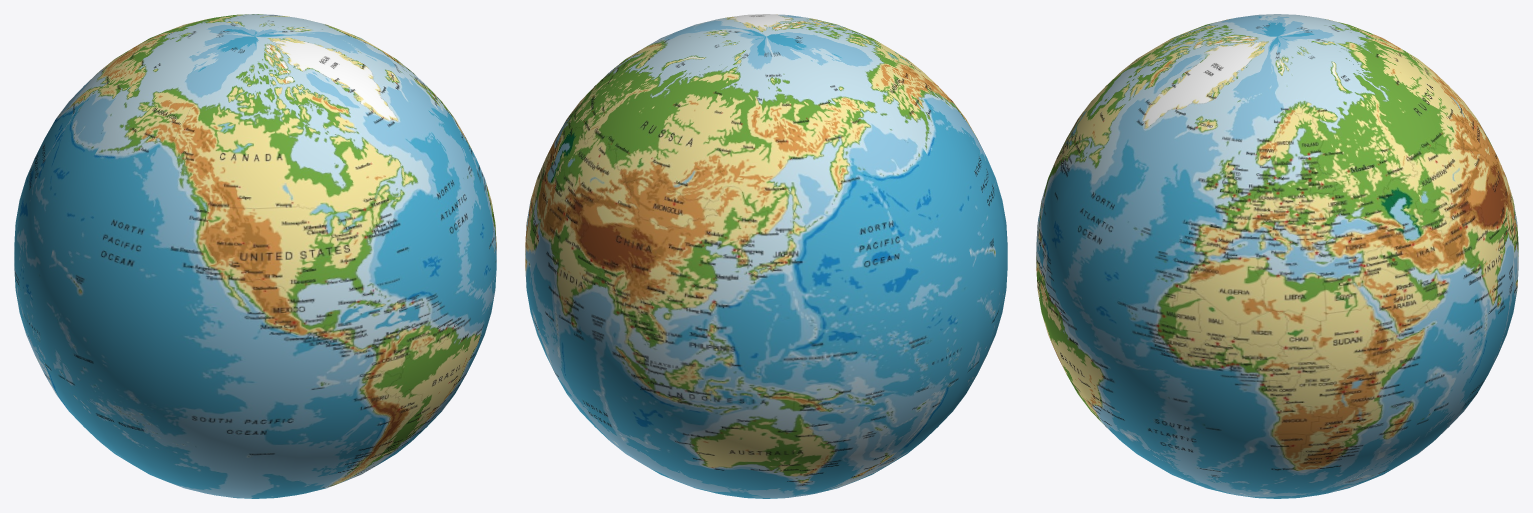
3 views of the same model, side by side, from view 1: azimuth 30°, elevation 25°; view 2: azimuth 150°, elevation 25°; view 3: azimuth 270°, elevation 25° (orthographic).
Parts seen in each view (by area): view 1: Sphere; view 2: Sphere; view 3: Sphere.
Part boxes in pixels (<box>): Sphere: <box>14,14,496,498</box>; Sphere: <box>525,14,1007,498</box>; Sphere: <box>1036,14,1518,498</box>.
Bounding box in the file's own units: 3 × 3 × 2.98.
Materials: 1 (1 with a texture image).
